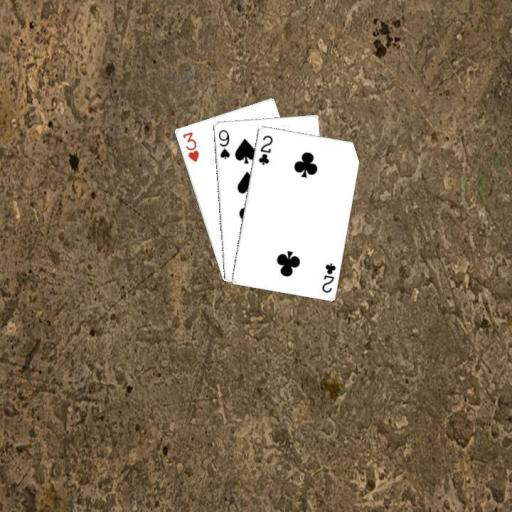card-corner: (179, 128, 200, 164), (255, 132, 274, 166), (319, 260, 337, 294), (215, 126, 231, 161)
